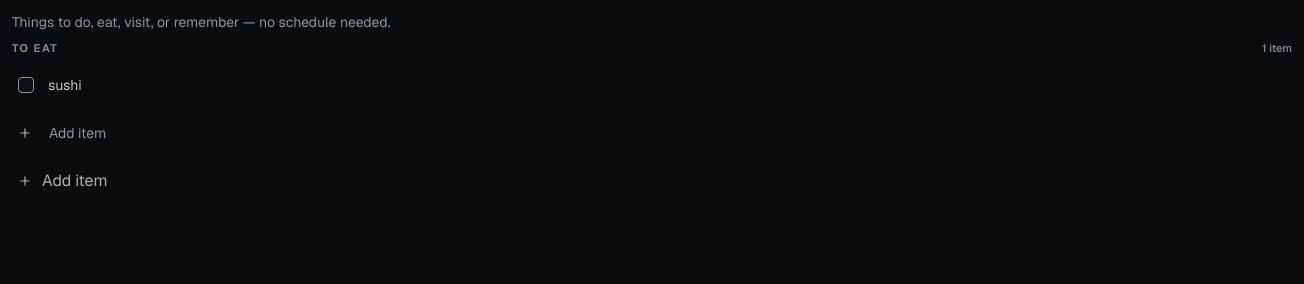
Scenario: BucketListView › adds several items with Enter inside one category without losing focus
This screenshot has width=1304, height=284.
Type "ramen" into the field named "Add item to To Eat". click: {"x": 664, "y": 132}
box: x1=42 y1=118 x2=1286 y2=148
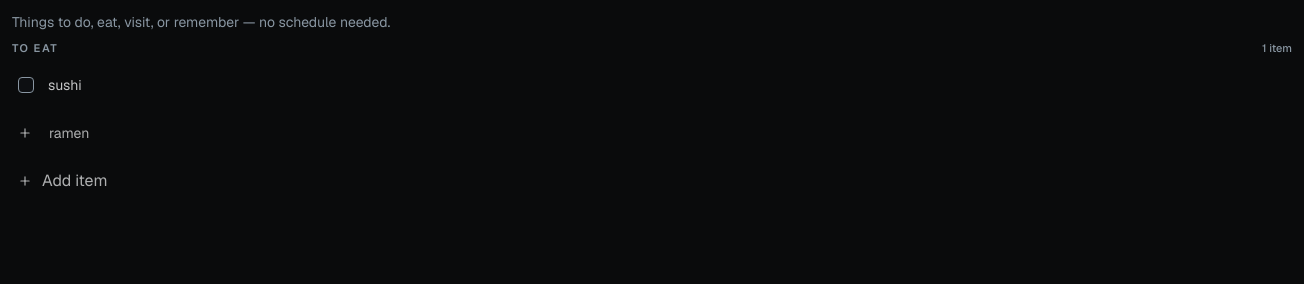
Submit the form named "Add item to To Eat", box x1=42 y1=118 x2=1286 y2=148
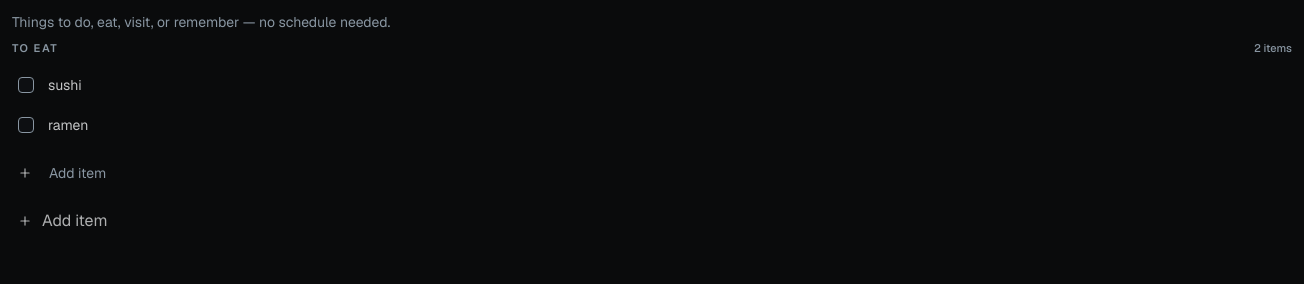
Now the button "ramen" is shown, box x1=44 y1=110 x2=1252 y2=138
Type "tacos" into the field named "Add item to To Eat". click: {"x": 664, "y": 172}
box: x1=42 y1=158 x2=1286 y2=188
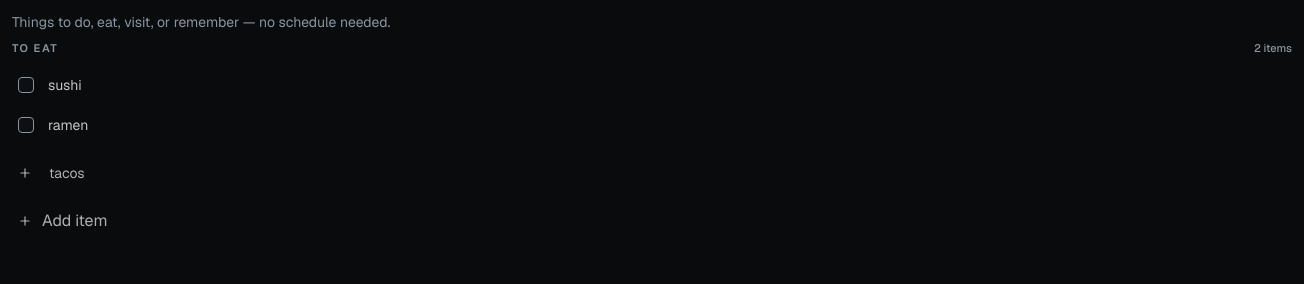
Submit the form named "Add item to To Eat", box x1=42 y1=158 x2=1286 y2=188
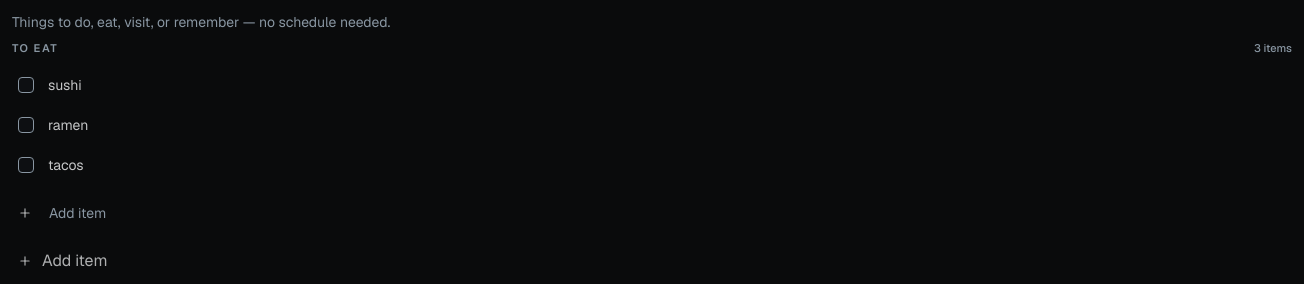
Now the button "tacos" is shown, box x1=44 y1=150 x2=1252 y2=178
